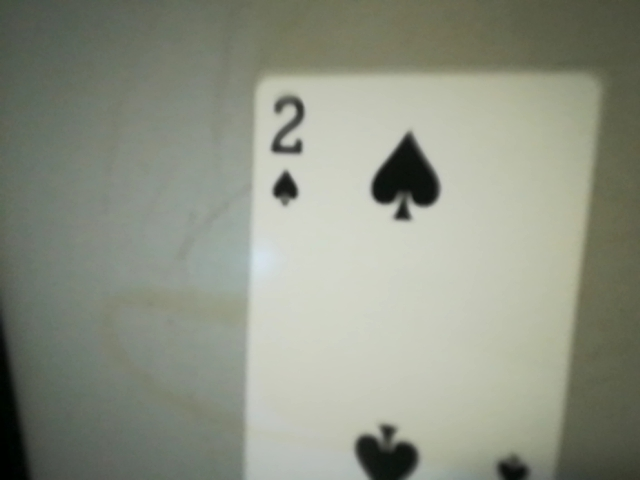ht 2: (253, 86, 320, 217)
